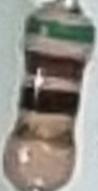Black: (19, 85, 79, 118)
Brown: (25, 50, 88, 83)
Green: (23, 14, 95, 46)
Side-Silver: (9, 116, 76, 148)
